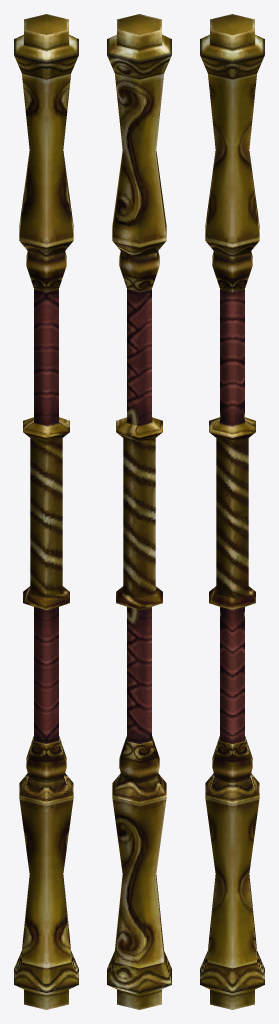
Rendered from weaponC002.FBX.
3 views of the same model, side by side, from view 1: azimuth 90°, elevation 25°; view 2: azimuth 150°, elevation 25°; view 3: azimuth 270°, elevation 25° (orthographic).
Visible parts, largest first — view 1: phw_weaponA010; view 2: phw_weaponA010; view 3: phw_weaponA010.
Part boxes in pixels (<box>): phw_weaponA010: <box>14,14,78,1009</box>; phw_weaponA010: <box>107,14,171,1009</box>; phw_weaponA010: <box>200,14,264,1009</box>.
Size of the model in its own units: 14.33 by 205 by 12.41.
Materials: 1 (1 with a texture image).
